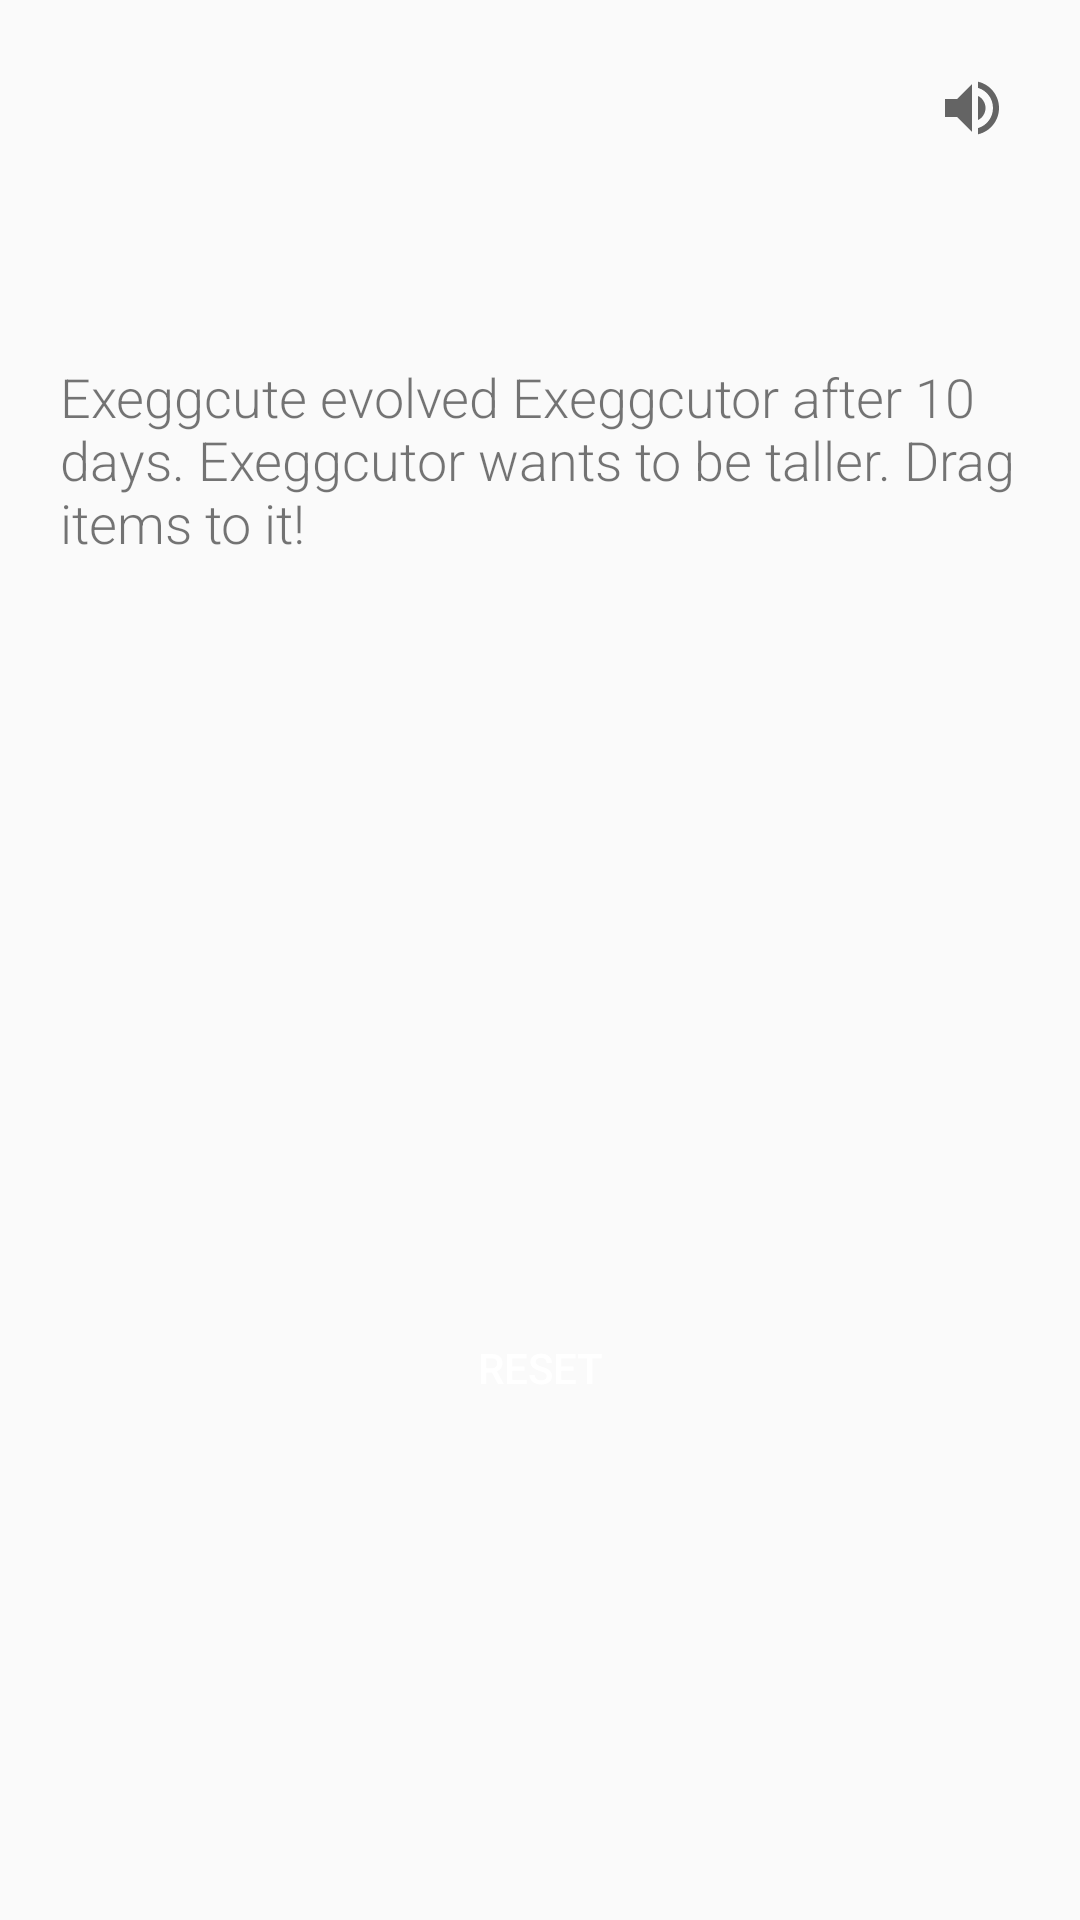

Named icons in this screenshot (1080*1920) and their centers, (x=x, y=y):
volume on: (x=972, y=108)
